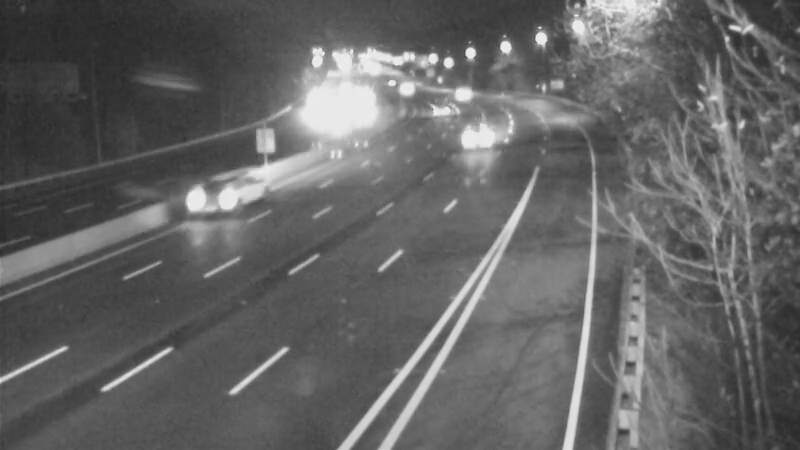vehicle: (199, 146, 279, 226), (380, 63, 430, 113), (440, 72, 490, 122), (418, 82, 468, 132), (451, 113, 501, 163)
